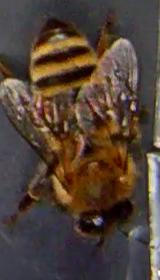varroa_mite: (30, 100, 51, 128)
